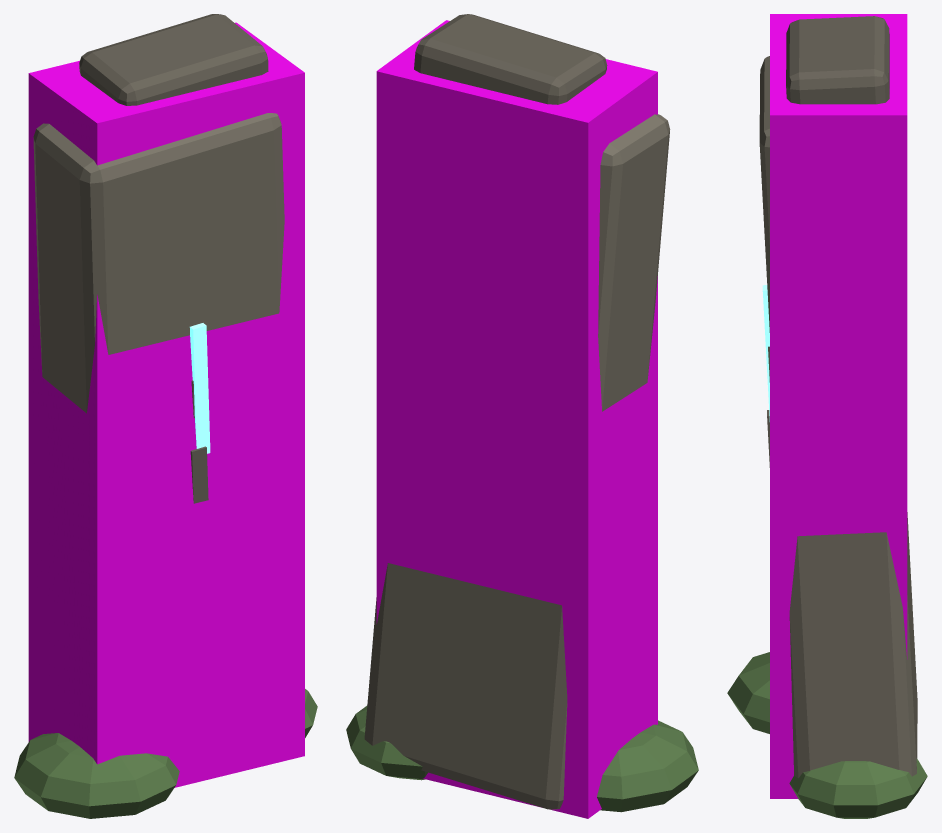
Rendered from monolith.glb.
3 views of the same model, side by side, from view 1: azimuth 30°, elevation 25°; view 2: azimuth 150°, elevation 25°; view 3: azimuth 270°, elevation 25° (orthographic).
Parts seen in each view (by area): view 1: Col_main, Slab, Cap, MossL, Rune, Groove2; view 2: Col_main, Slab, Cap, MossL, MossR; view 3: Col_main, Slab, Cap, MossR, MossL, Rune.
Boxes of the visible parts, bbox=[...] form: Col_main: bbox=[28, 22, 304, 787]; Slab: bbox=[33, 113, 284, 413]; Cap: bbox=[79, 14, 268, 105]; MossL: bbox=[14, 733, 179, 818]; Rune: bbox=[189, 323, 210, 453]; Groove2: bbox=[190, 446, 208, 503]; Col_main: bbox=[376, 20, 657, 818]; Slab: bbox=[364, 114, 670, 809]; Cap: bbox=[414, 14, 607, 104]; MossL: bbox=[597, 720, 698, 812]; MossR: bbox=[346, 705, 427, 780]; Col_main: bbox=[770, 14, 907, 798]; Slab: bbox=[759, 56, 917, 778]; Cap: bbox=[786, 16, 889, 104]; MossR: bbox=[789, 758, 927, 818]; MossL: bbox=[727, 652, 769, 733]; Rune: bbox=[762, 285, 769, 421].
Bounding box in the file's own units: 2.02 × 4.71 × 1.17.
